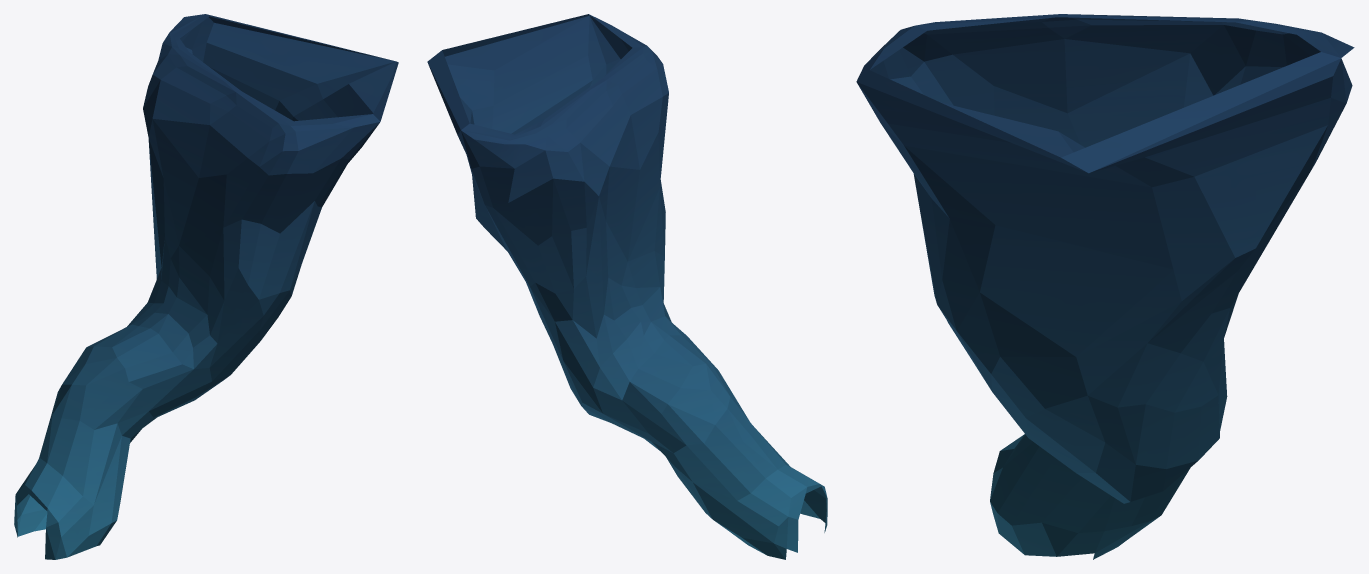
The model's file is MOD_Level1_DropTunnel.fbx.
3 renders of one model, left to right at view 1: azimuth 30°, elevation 25°; view 2: azimuth 150°, elevation 25°; view 3: azimuth 270°, elevation 25°, orthographic. The views are drawn at different scales.
Visible parts, largest first — view 1: tunnellevel1; view 2: tunnellevel1; view 3: tunnellevel1.
Boxes of the visible parts, x1,y1,x2,y2 form: tunnellevel1: (14, 14, 398, 559); tunnellevel1: (427, 14, 827, 559); tunnellevel1: (856, 14, 1354, 559).
Size of the model in its own units: 1.99 by 2.11 by 1.43.
